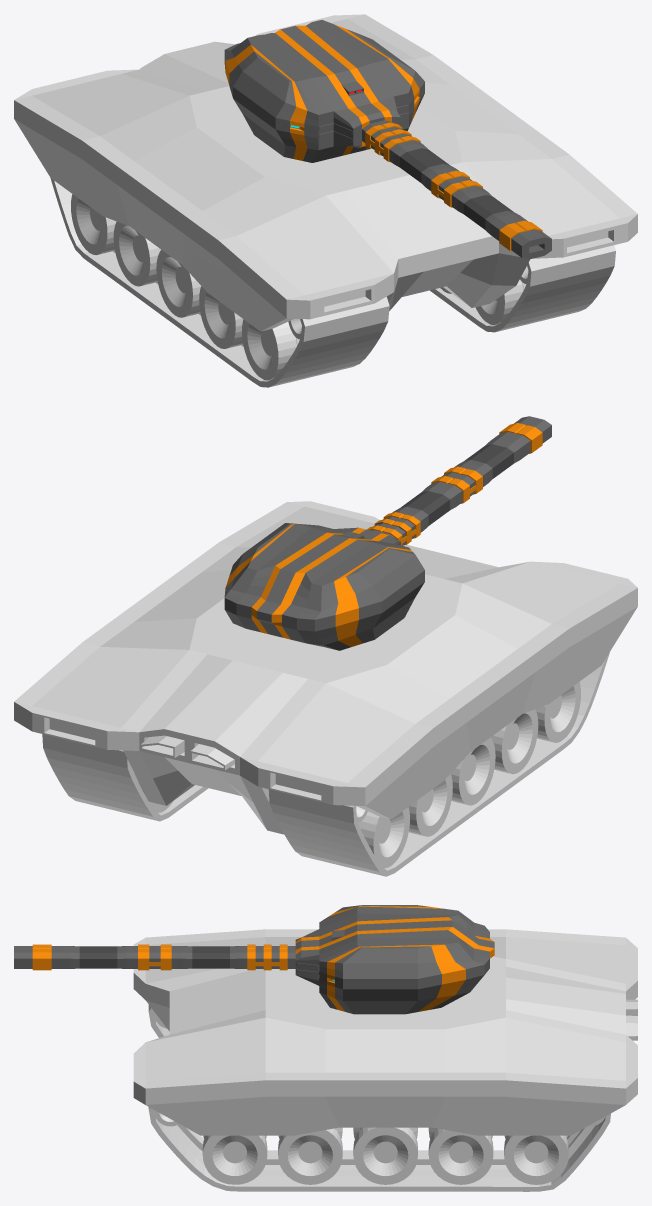
The model's file is TankV2.fbx.
The picture shows the model from 3 angles, top to bottom: view 1: azimuth 30°, elevation 25°; view 2: azimuth 150°, elevation 25°; view 3: azimuth 270°, elevation 25°; orthographic projection. The views are drawn at different scales.
Visible parts, largest first — view 1: HullV2, Turret, TrackRight, TrackLeft, Wheel1R, Wheel4R, Wheel3R, Wheel5R, Wheel2R, Wheel1L; view 2: HullV2, Turret, TrackRight, TrackLeft, Wheel2R, Wheel3R, Wheel5R, Wheel1R, Wheel4R; view 3: HullV2, Turret, TrackLeft, Wheel3L, Wheel4L, Wheel2L, Wheel1L, Wheel5L.
Part boxes in pixels (x1=…): HullV2: x1=14, y1=14, x2=637, y2=331; Turret: x1=224, y1=20, x2=551, y2=259; TrackRight: x1=50, y1=178, x2=389, y2=387; TrackLeft: x1=430, y1=245, x2=615, y2=332; Wheel1R: x1=242, y1=319, x2=299, y2=380; Wheel4R: x1=113, y1=221, x2=160, y2=286; Wheel3R: x1=156, y1=250, x2=201, y2=317; Wheel5R: x1=71, y1=194, x2=116, y2=255; Wheel2R: x1=199, y1=286, x2=243, y2=348; Wheel1L: x1=475, y1=279, x2=526, y2=324; HullV2: x1=14, y1=501, x2=637, y2=834; Turret: x1=224, y1=416, x2=551, y2=650; TrackRight: x1=268, y1=652, x2=609, y2=876; TrackLeft: x1=42, y1=734, x2=208, y2=821; Wheel2R: x1=491, y1=709, x2=538, y2=774; Wheel3R: x1=450, y1=737, x2=495, y2=805; Wheel5R: x1=358, y1=807, x2=409, y2=867; Wheel1R: x1=535, y1=682, x2=580, y2=742; Wheel4R: x1=408, y1=774, x2=452, y2=836; HullV2: x1=133, y1=929, x2=637, y2=1135; Turret: x1=14, y1=905, x2=494, y2=1014; TrackLeft: x1=148, y1=1107, x2=610, y2=1191; Wheel3L: x1=353, y1=1127, x2=417, y2=1184; Wheel4L: x1=428, y1=1127, x2=493, y2=1184; Wheel2L: x1=278, y1=1127, x2=342, y2=1184; Wheel1L: x1=202, y1=1135, x2=267, y2=1184; Wheel5L: x1=504, y1=1135, x2=568, y2=1184.
Bounding box in the file's own units: 3320 × 2065 × 5798.
